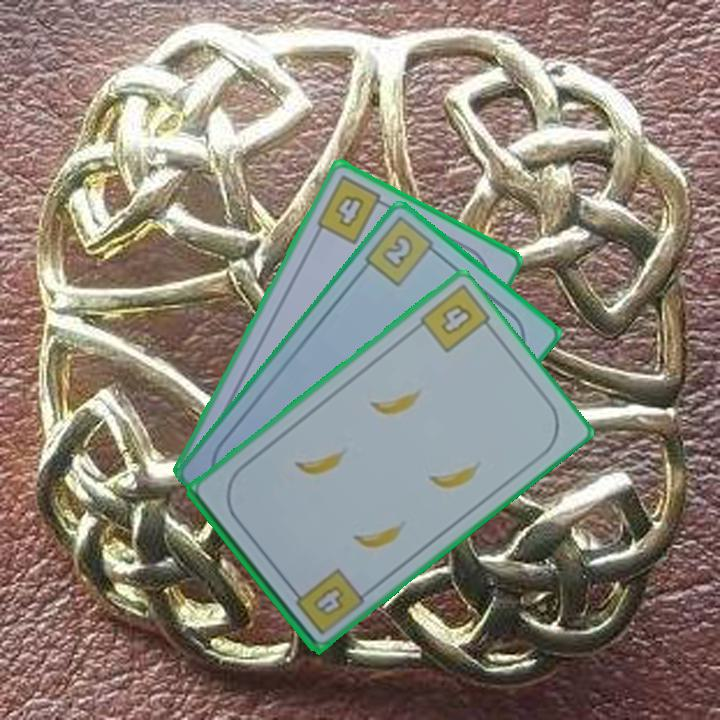2b: (360, 213, 445, 290)
4b: (312, 172, 393, 247), (286, 564, 367, 638), (437, 299, 476, 338)
